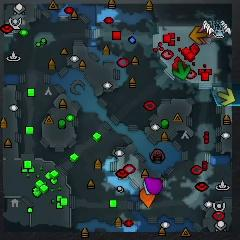p3: (143, 177, 163, 195)
p5: (139, 188, 156, 208)
x1: (199, 25, 212, 44)
x2: (217, 88, 236, 106)
x3: (143, 182, 152, 195)
x4: (172, 61, 191, 81)
x5: (189, 26, 209, 45)
